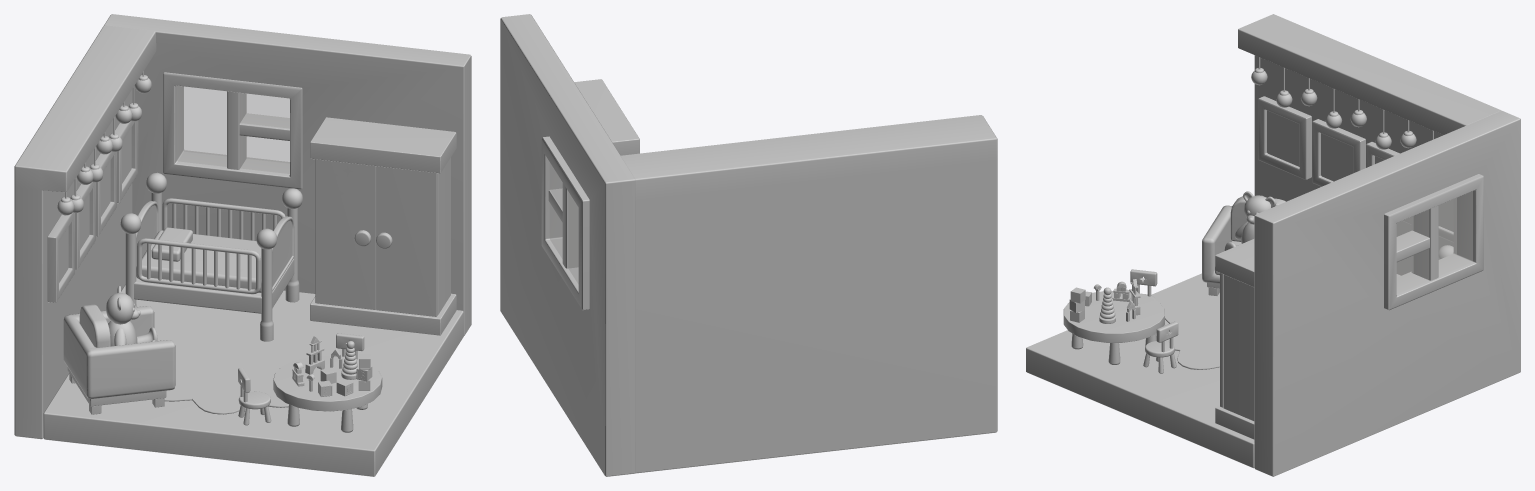
File: Nursery_Room_40.fbx
The picture shows the model from 3 angles, left to right: view 1: azimuth 30°, elevation 25°; view 2: azimuth 150°, elevation 25°; view 3: azimuth 270°, elevation 25°; orthographic projection. The views are drawn at different scales.
Parts seen in each view (by area): view 1: Room_40_Wall_2, Room_40_Floor_1, Room_40_Cabinet_1, Room_40_Wall_1, Room_40_Baby_Bed_1, Room_40_Window_1, Room_40_Armchair_1, Room_40_Carpet_1, Room_40_Table_1, Room_40_Painting_1, Room_40_Toy_Bear_1, Room_40_Painting_4 (+6 smaller); view 2: Room_40_Wall_1, Room_40_Wall_2, Room_40_Window_1, Room_40_Cabinet_1; view 3: Room_40_Wall_2, Room_40_Wall_1, Room_40_Floor_1, Room_40_Window_1, Room_40_Cabinet_1, Room_40_Table_1, Room_40_Painting_1, Room_40_Carpet_1, Room_40_Painting_2, Room_40_Armchair_1, Room_40_Chair_1, Room_40_Toy_Bear_1 (+2 smaller).
Part boxes in pixels (x1,y1,x2,y2): Room_40_Wall_2: (104, 14, 471, 335); Room_40_Floor_1: (43, 284, 463, 476); Room_40_Cabinet_1: (310, 117, 456, 335); Room_40_Wall_1: (14, 25, 156, 439); Room_40_Baby_Bed_1: (120, 172, 302, 341); Room_40_Window_1: (163, 72, 302, 189); Room_40_Armchair_1: (63, 304, 175, 414); Room_40_Carpet_1: (160, 326, 317, 414); Room_40_Table_1: (273, 355, 382, 432); Room_40_Painting_1: (47, 212, 74, 302); Room_40_Toy_Bear_1: (106, 286, 157, 346); Room_40_Painting_4: (115, 120, 138, 203); Room_40_Wall_1: (620, 115, 997, 473); Room_40_Wall_2: (500, 14, 635, 476); Room_40_Window_1: (541, 136, 589, 309); Room_40_Cabinet_1: (574, 79, 639, 155); Room_40_Wall_2: (1254, 110, 1520, 476); Room_40_Wall_1: (1238, 14, 1501, 249); Room_40_Floor_1: (1026, 273, 1254, 468); Room_40_Window_1: (1384, 174, 1483, 310); Room_40_Cabinet_1: (1215, 239, 1254, 439); Room_40_Table_1: (1063, 291, 1164, 364); Room_40_Painting_1: (1258, 96, 1311, 179); Room_40_Carpet_1: (1156, 296, 1219, 369); Room_40_Painting_2: (1312, 119, 1365, 186); Room_40_Armchair_1: (1202, 196, 1285, 296); Room_40_Chair_1: (1143, 321, 1178, 373); Room_40_Toy_Bear_1: (1224, 191, 1276, 250).
Size of the model in its own units: 705 by 400 by 704.
